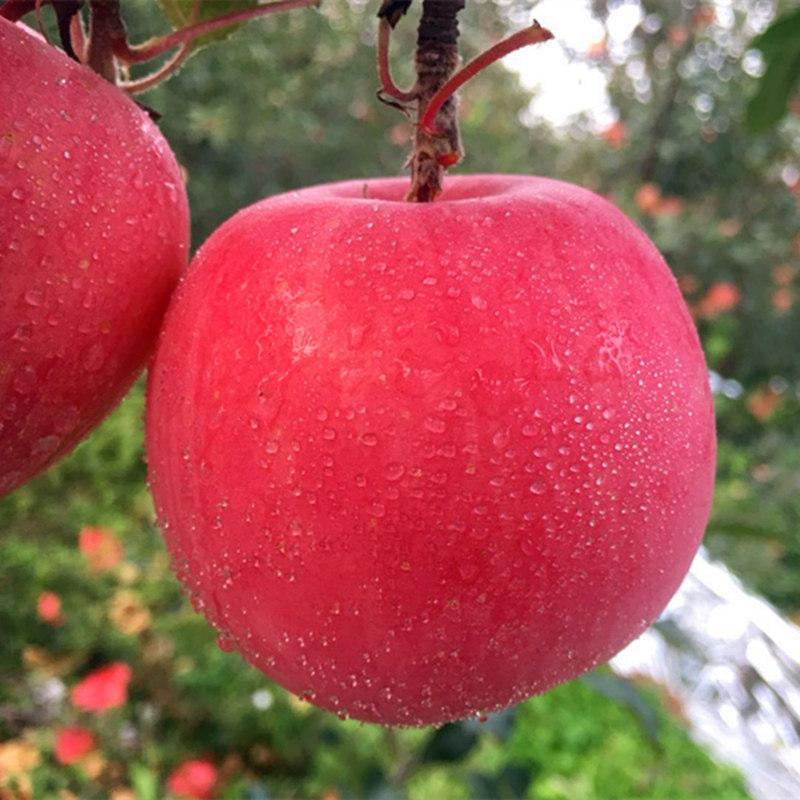apple: (136, 173, 722, 716), (0, 37, 191, 513)
